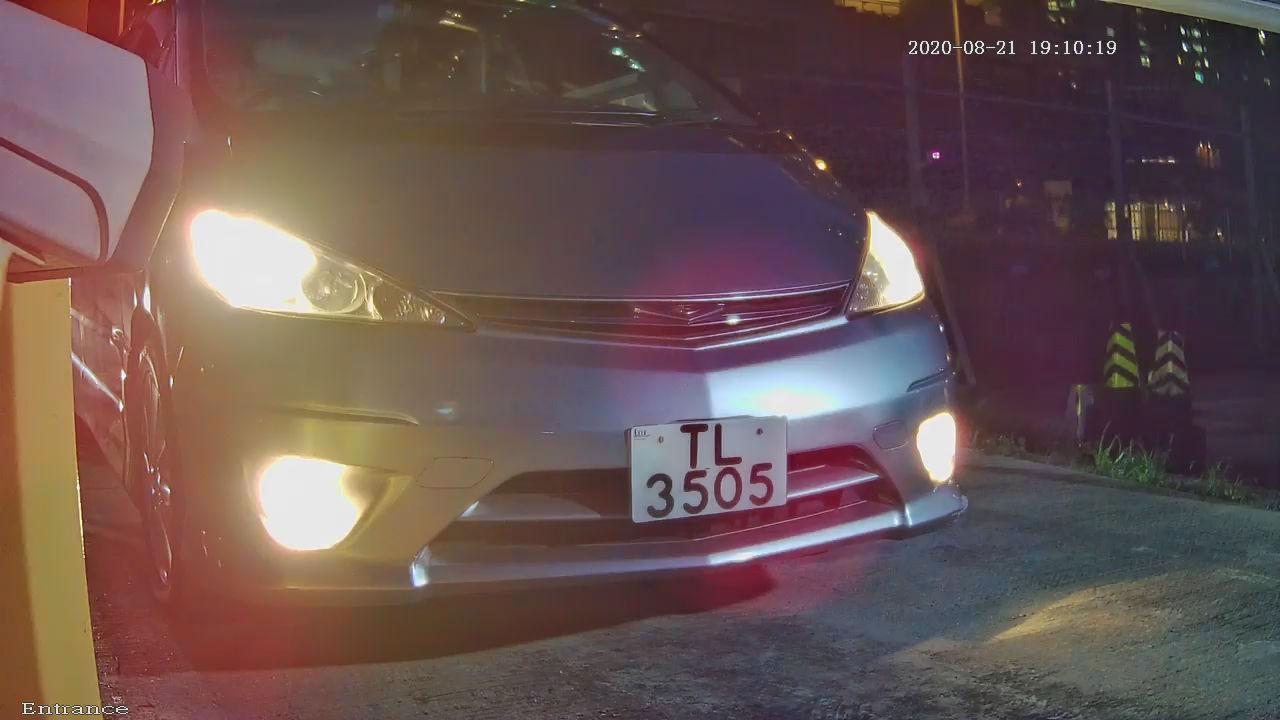Car: (46, 10, 1063, 692)
License Plate: (595, 396, 818, 537)
